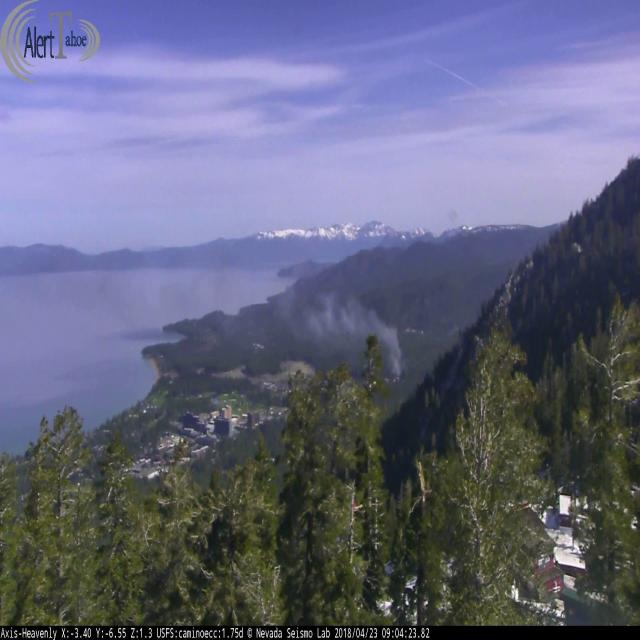smoke: (47, 248, 414, 381)
